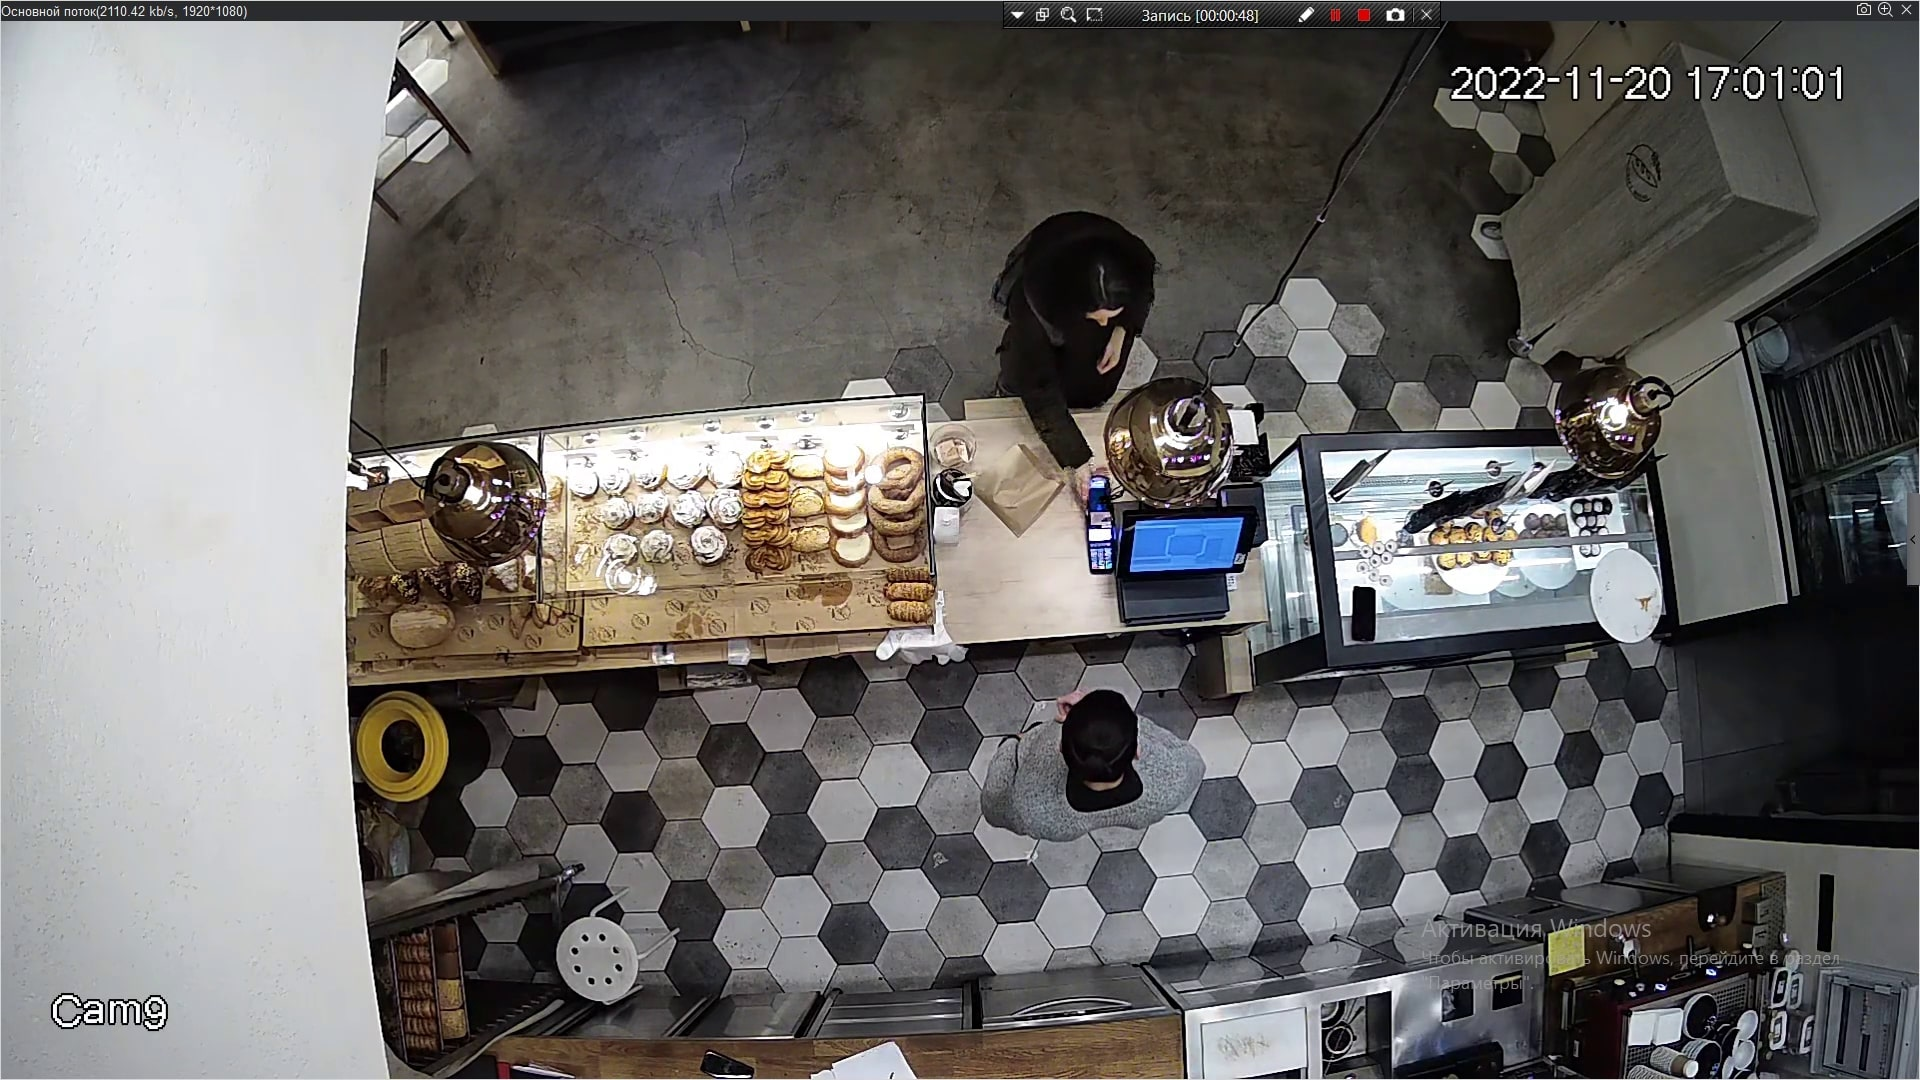barcounter: (360, 392, 1677, 692)
pack: (984, 440, 1062, 527)
terminal: (1075, 480, 1124, 582)
